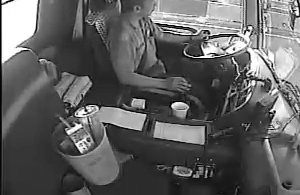paper: (93, 105, 148, 133)
